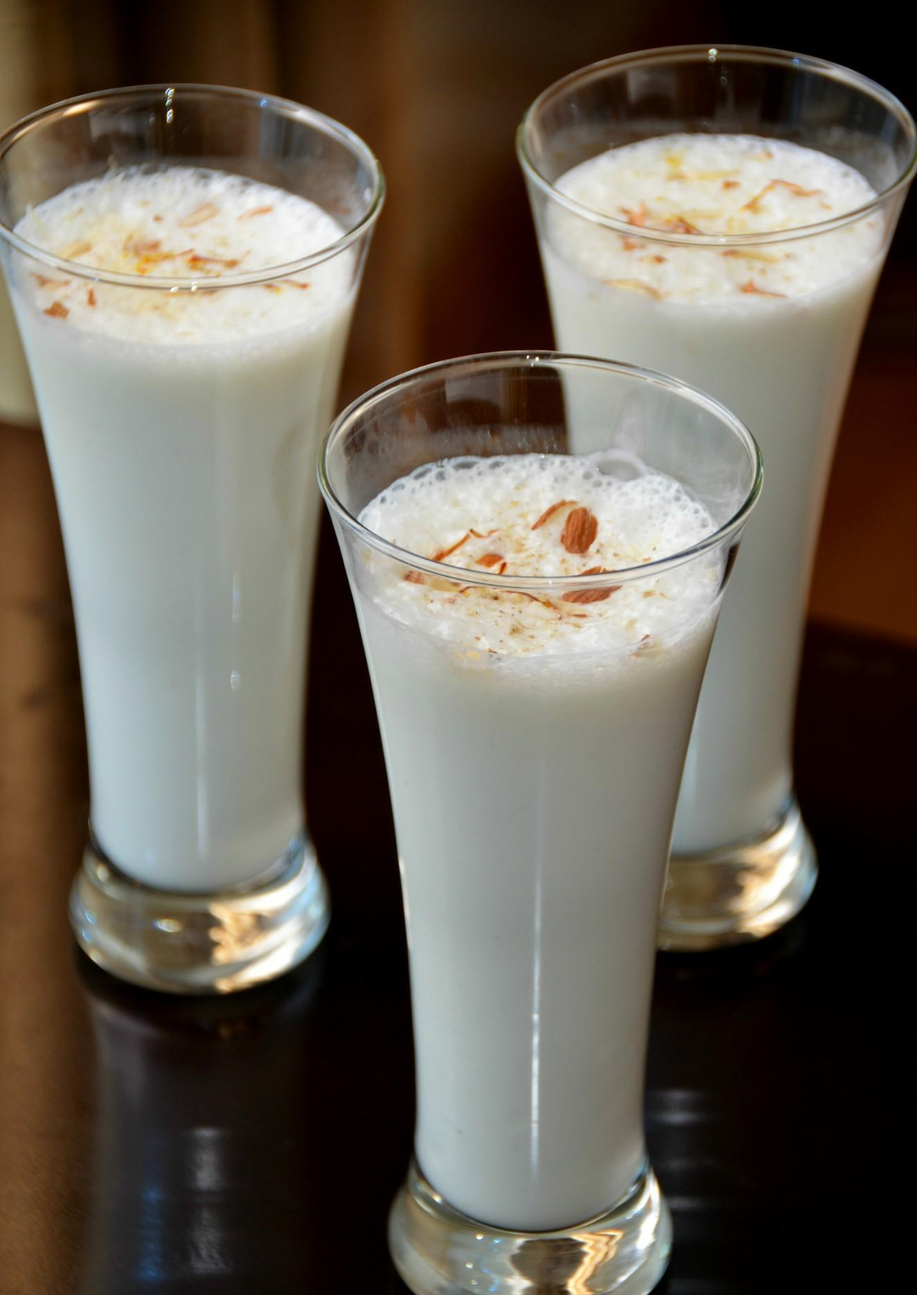Lassi: (348, 452, 728, 1225), (15, 165, 364, 888), (539, 138, 888, 852)
